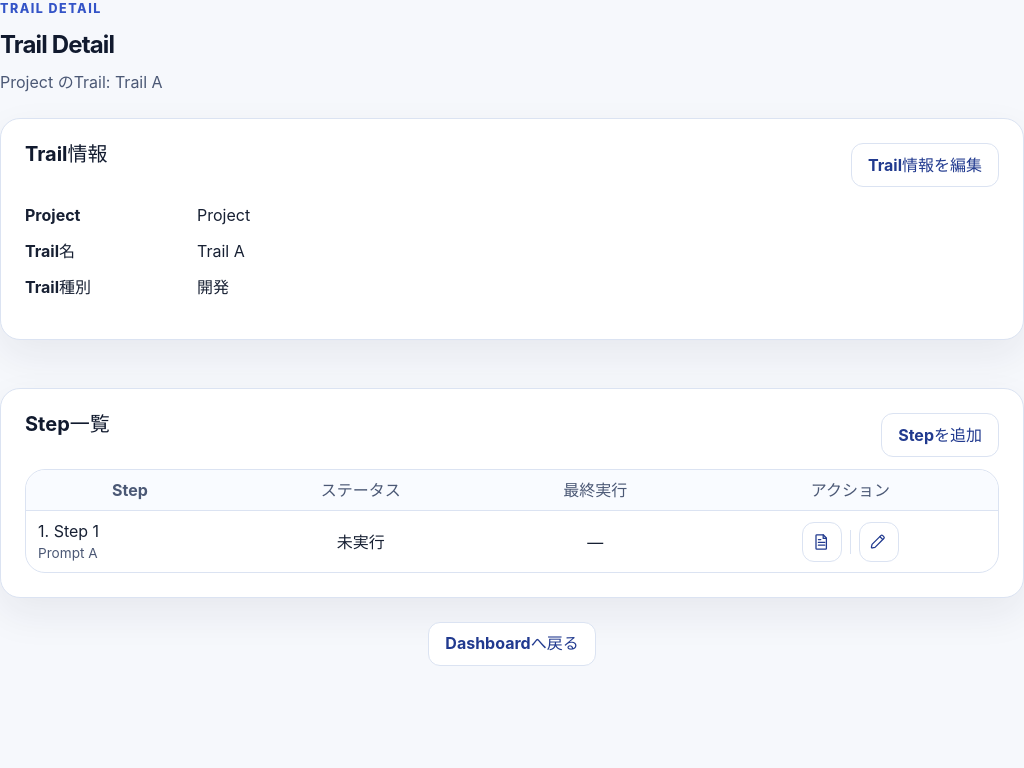
TrailDetailPage Step list › shows only the Prompt icon for a Run-less prompt Step, heading "Prompt"
Expected: the text "未実行" is shown, [337,532,385,552]
Click the button named "Promptを表示". click: x=822, y=542
box: [802,522,842,562]
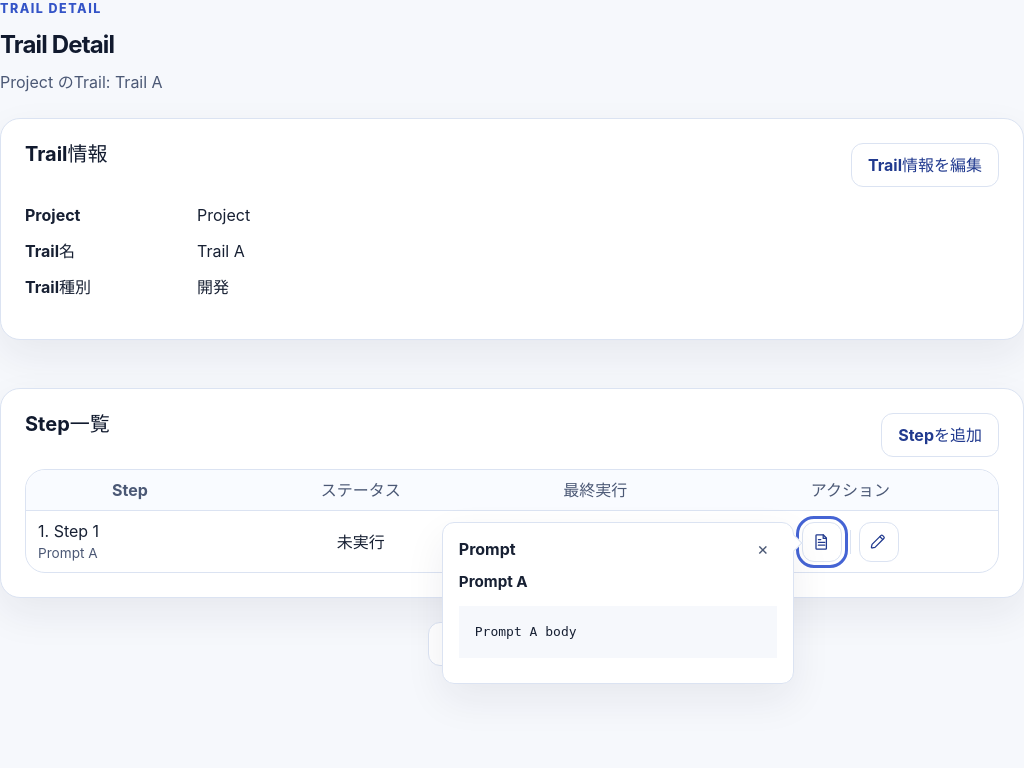
Expected: the heading "Prompt" is shown, [459,536,516,560]
Expected: the text "Prompt A body" is shown, [459,606,777,658]
